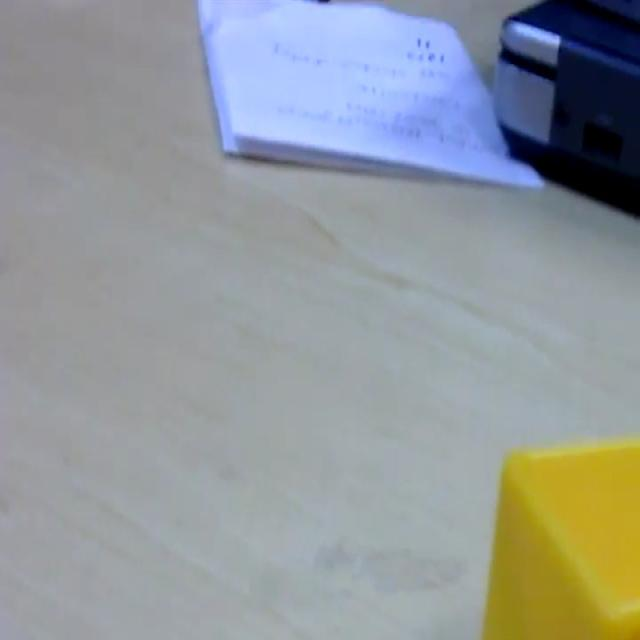yellow_block: (480, 433, 639, 636)
